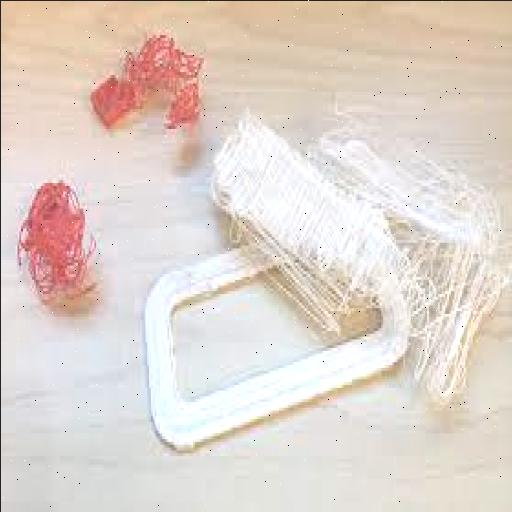spaghetti: (221, 118, 492, 367), (107, 28, 201, 148), (26, 167, 86, 321)
